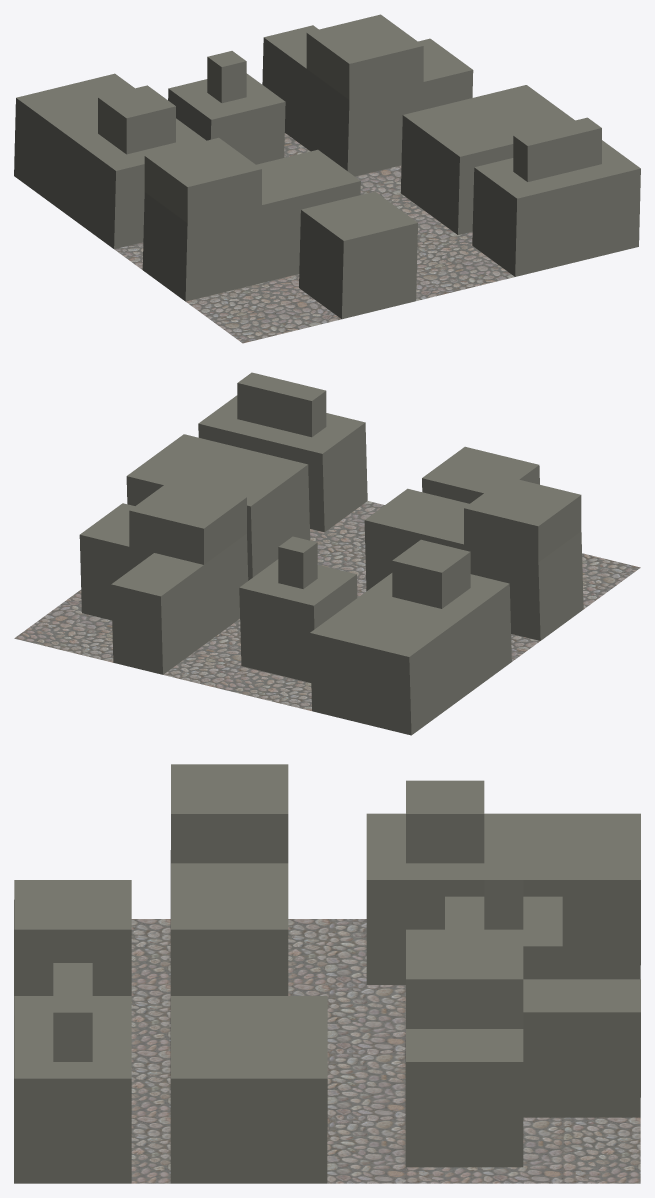
Rendered from Tile2.fbx.
3 views of the same model, one above another, from view 1: azimuth 30°, elevation 25°; view 2: azimuth 150°, elevation 25°; view 3: azimuth 270°, elevation 25° (orthographic). The views are drawn at different scales.
Parts seen in each view (by area): view 1: Tile2; view 2: Tile2; view 3: Tile2.
Boxes of the visible parts, left/top/right/bottom form: Tile2: left=14, top=14, right=640, bottom=343; Tile2: left=14, top=372, right=640, bottom=735; Tile2: left=14, top=764, right=640, bottom=1183.
Bounding box in the file's own units: 1608 × 439 × 1601.
